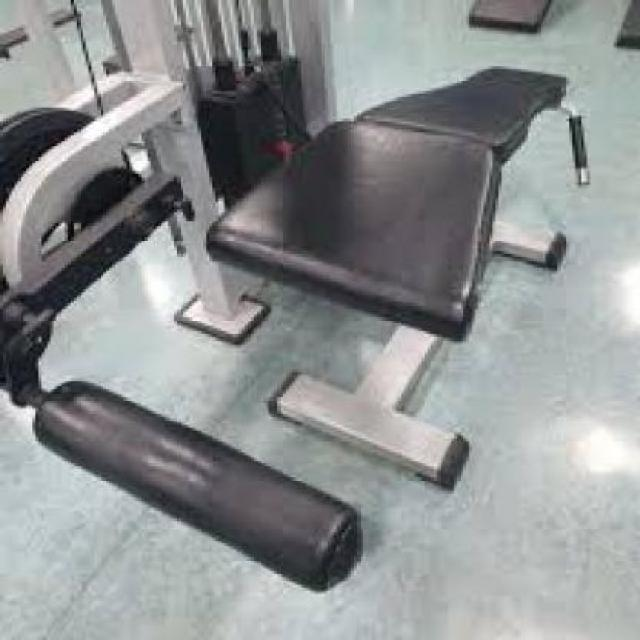reg curl machine: (0, 0, 595, 594)
